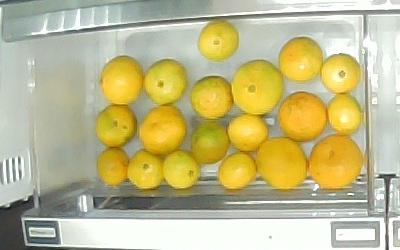tangerine: (308, 134, 365, 189), (232, 60, 286, 114), (255, 139, 308, 190), (279, 91, 328, 141), (139, 106, 187, 155), (279, 36, 324, 84), (101, 56, 144, 105), (143, 59, 188, 105), (191, 76, 234, 120), (96, 105, 137, 148), (198, 20, 239, 62), (322, 53, 362, 95), (191, 122, 230, 164), (228, 114, 271, 152), (326, 93, 362, 134), (128, 150, 164, 190), (219, 152, 256, 190), (163, 151, 200, 189), (96, 147, 130, 186)
